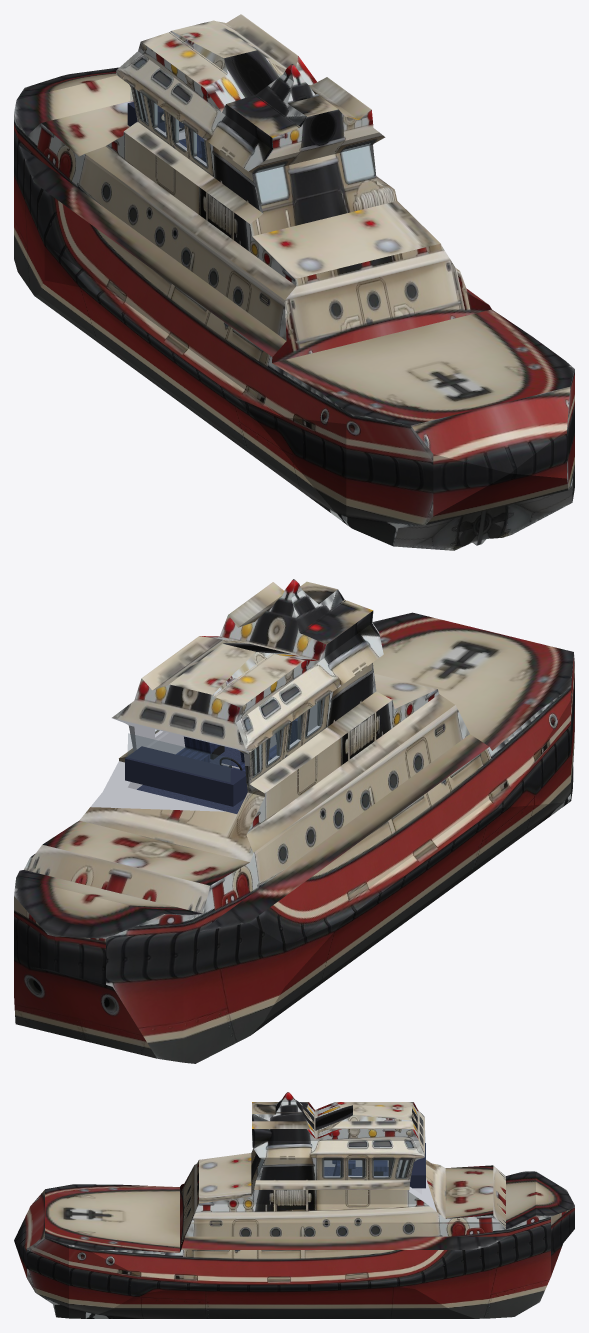
File: workboat_tug.glb
The picture shows the model from 3 angles, top to bottom: view 1: azimuth 30°, elevation 25°; view 2: azimuth 150°, elevation 25°; view 3: azimuth 270°, elevation 25°; orthographic projection. The views are drawn at different scales.
Parts seen in each view (by area): view 1: workboat_tug, workboat_tug_cabin; view 2: workboat_tug, workboat_tug_cabin; view 3: workboat_tug, workboat_tug_cabin.
Boxes of the visible parts, box(x1,y1,x2,y2) form: workboat_tug: box(14, 14, 574, 550); workboat_tug_cabin: box(127, 90, 206, 165); workboat_tug: box(14, 579, 574, 1063); workboat_tug_cabin: box(125, 701, 320, 813); workboat_tug: box(14, 1092, 574, 1318); workboat_tug_cabin: box(324, 1137, 425, 1188).
Size of the model in its own units: 4.88 by 6.23 by 14.96.
11 materials, 4 textured.
